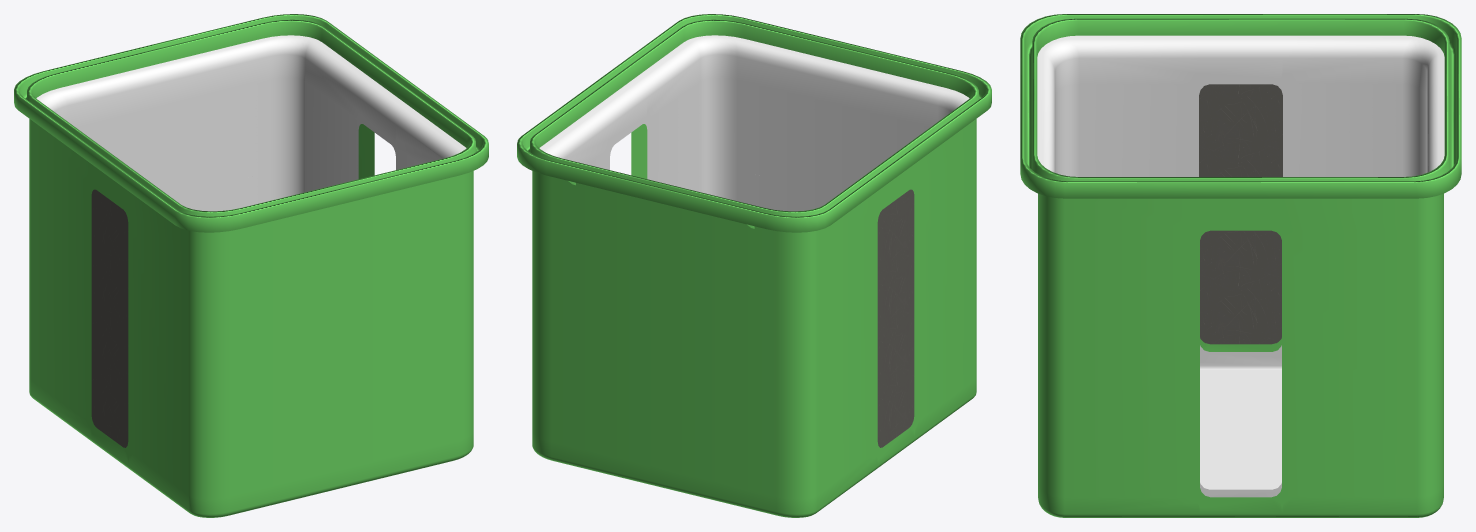
The model's file is 360-cbase.glb.
3 views of the same model, side by side, from view 1: azimuth 30°, elevation 25°; view 2: azimuth 150°, elevation 25°; view 3: azimuth 270°, elevation 25° (orthographic). The views are drawn at different scales.
Visible parts, largest first — view 1: c Cube.074, c Cube.073, c Plane.045, c Plane.049; view 2: c Cube.074, c Cube.073, c Plane.045, c Plane.049; view 3: c Cube.074, c Cube.073, c Plane.045, c Plane.049, c Plane.048.
Boxes of the visible parts, bbox=[...] form: c Cube.074: bbox=[29, 119, 473, 517]; c Cube.073: bbox=[36, 35, 466, 211]; c Plane.045: bbox=[14, 14, 488, 232]; c Plane.049: bbox=[91, 189, 128, 447]; c Cube.074: bbox=[532, 119, 976, 517]; c Cube.073: bbox=[539, 35, 969, 211]; c Plane.045: bbox=[517, 14, 991, 232]; c Plane.049: bbox=[877, 189, 914, 447]; c Cube.074: bbox=[1038, 193, 1443, 517]; c Cube.073: bbox=[1037, 35, 1444, 497]; c Plane.045: bbox=[1020, 14, 1461, 198]; c Plane.049: bbox=[1199, 84, 1282, 344]; c Plane.048: bbox=[1200, 370, 1281, 489].
Size of the model in its own units: 5.62 by 5.41 by 6.2.
Materials: 4 (1 with a texture image).
